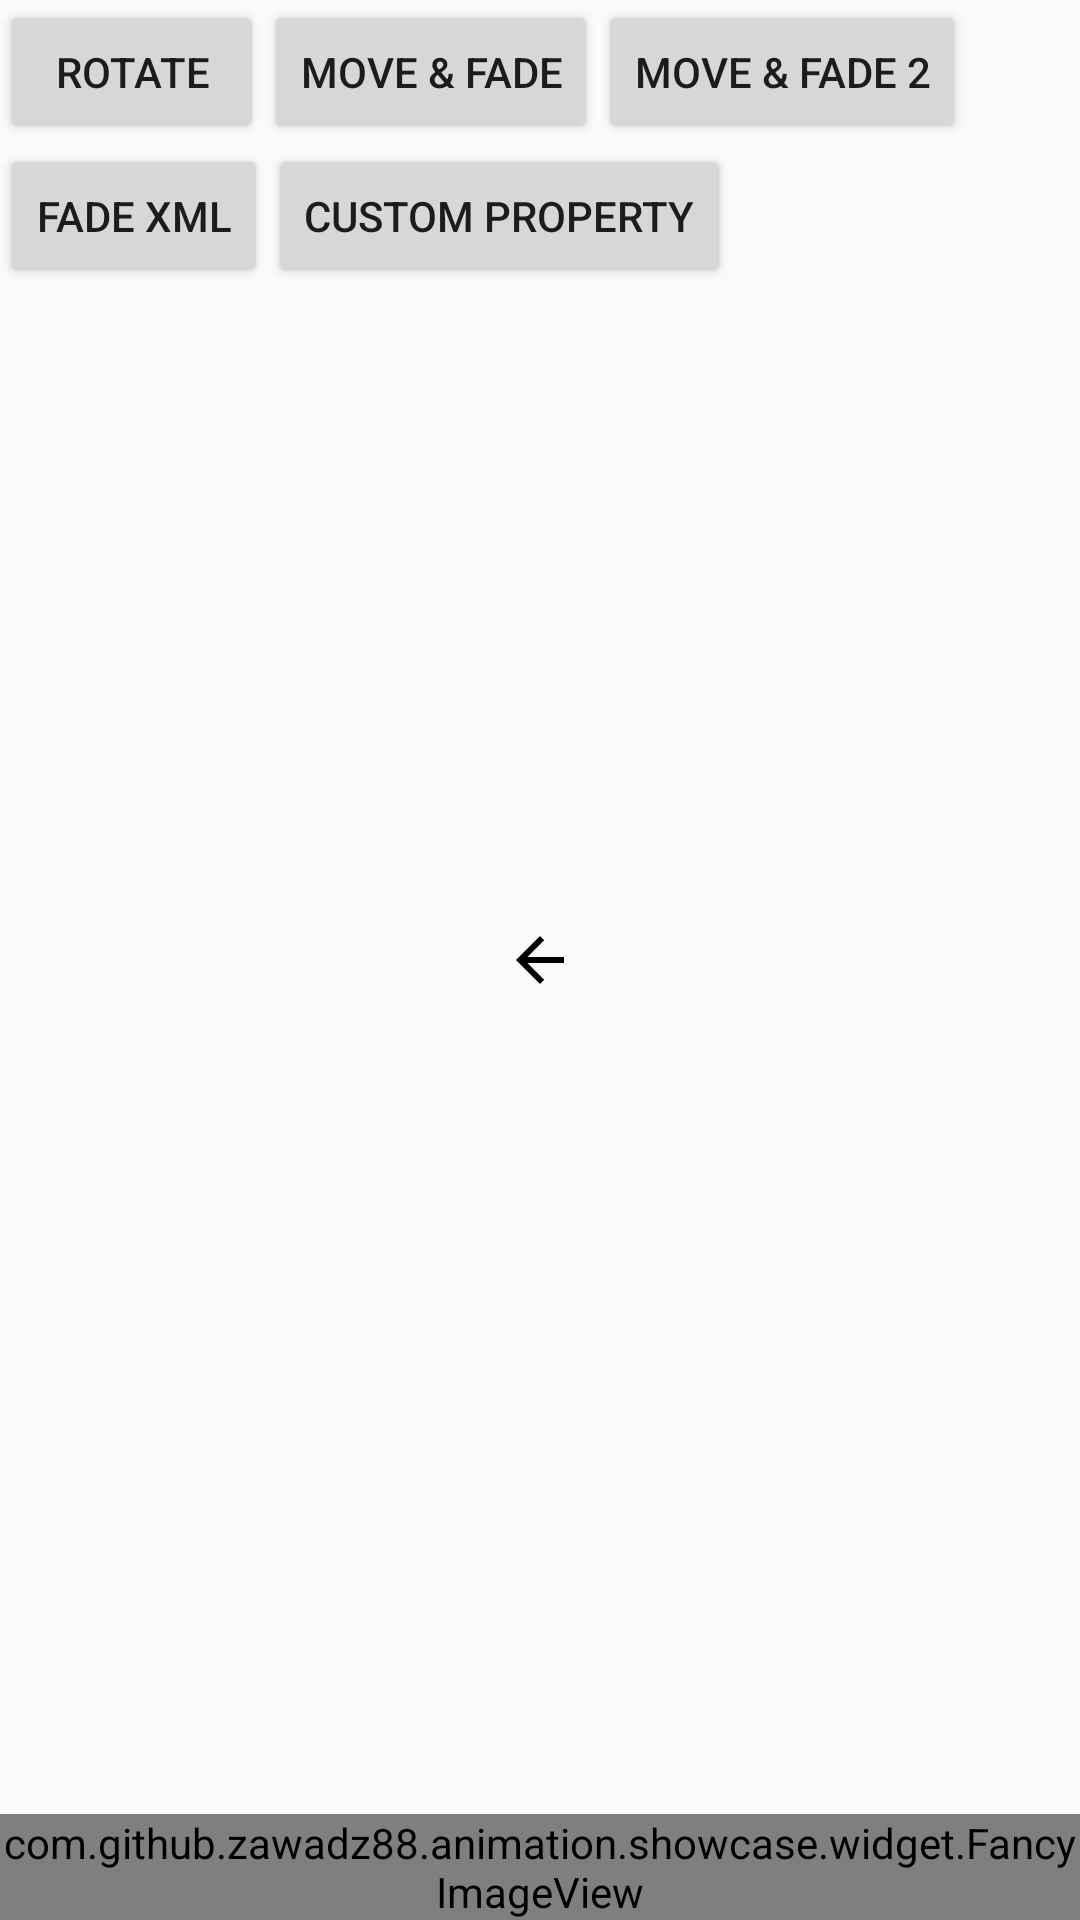

Icons on this 1080px×1920px Android screen, each with the point to tap as (x=x, y=y):
ab back: (x=540, y=960)
